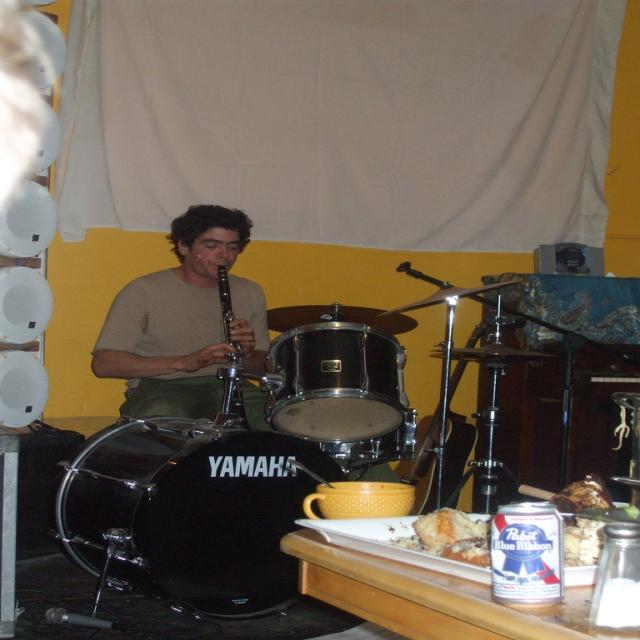clarinet: (215, 266, 249, 424)
drums: (42, 272, 540, 627)
guitar: (394, 316, 492, 518)
